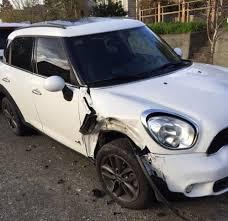fender-dent: (72, 87, 140, 140)
